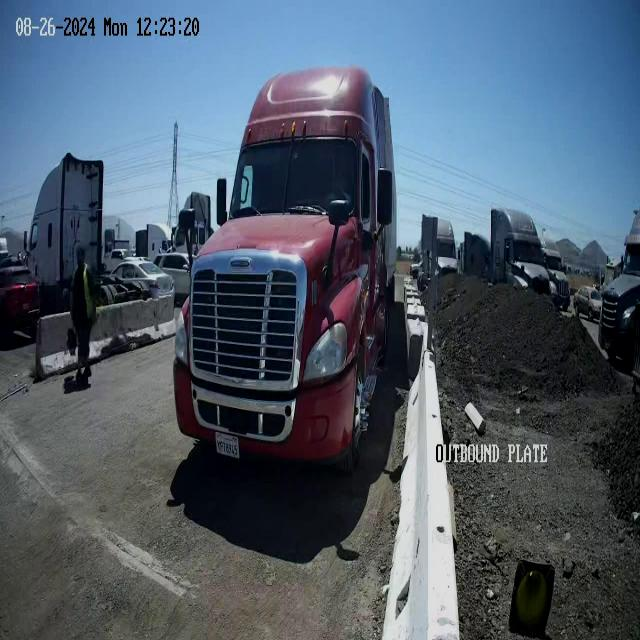TRUCK_CONTAINER: (172, 65, 400, 475)
